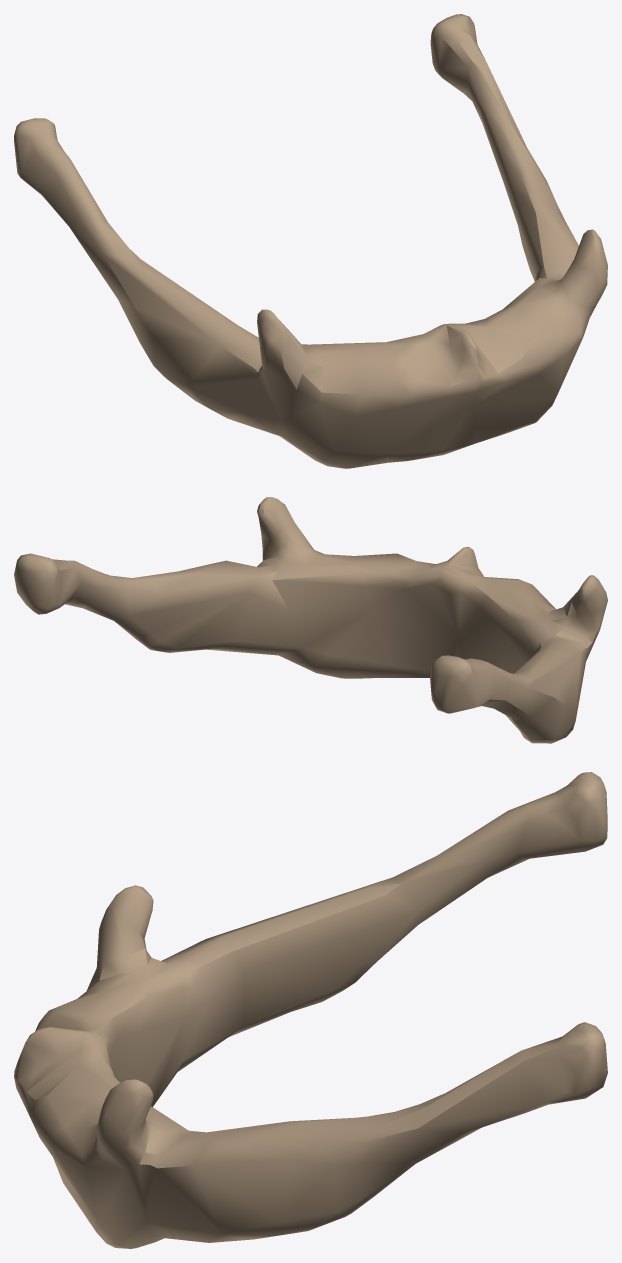
Rendered from hyoid.glb.
The picture shows the model from 3 angles, top to bottom: view 1: azimuth 30°, elevation 25°; view 2: azimuth 150°, elevation 25°; view 3: azimuth 270°, elevation 25°; orthographic projection. The views are drawn at different scales.
Parts seen in each view (by area): view 1: FJ2772 Hyoid bone; view 2: FJ2772 Hyoid bone; view 3: FJ2772 Hyoid bone.
Part boxes in pixels (<box>): FJ2772 Hyoid bone: <box>14,14,607,468</box>; FJ2772 Hyoid bone: <box>14,497,607,743</box>; FJ2772 Hyoid bone: <box>14,772,607,1248</box>.
Size of the model in its own units: 0.0378 by 0.0185 by 0.0346.
